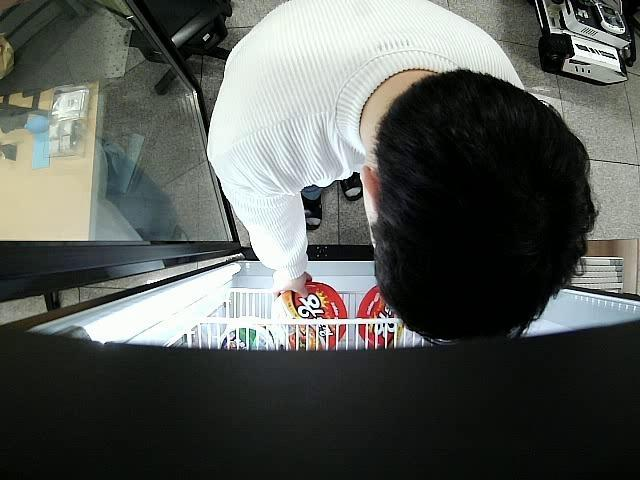10_wangTtukkeong: (270, 282, 346, 349)
